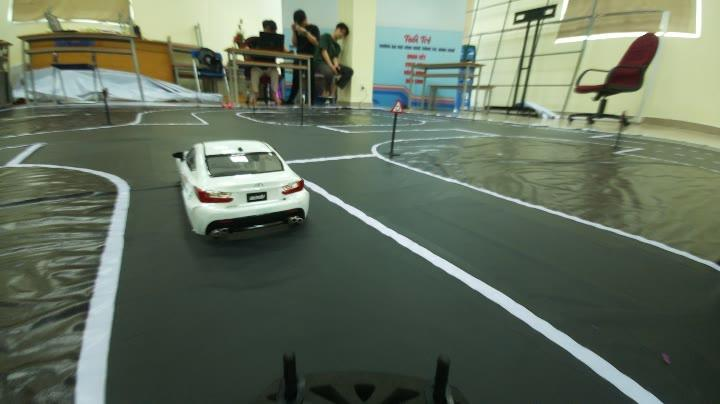car: (162, 144, 316, 234)
